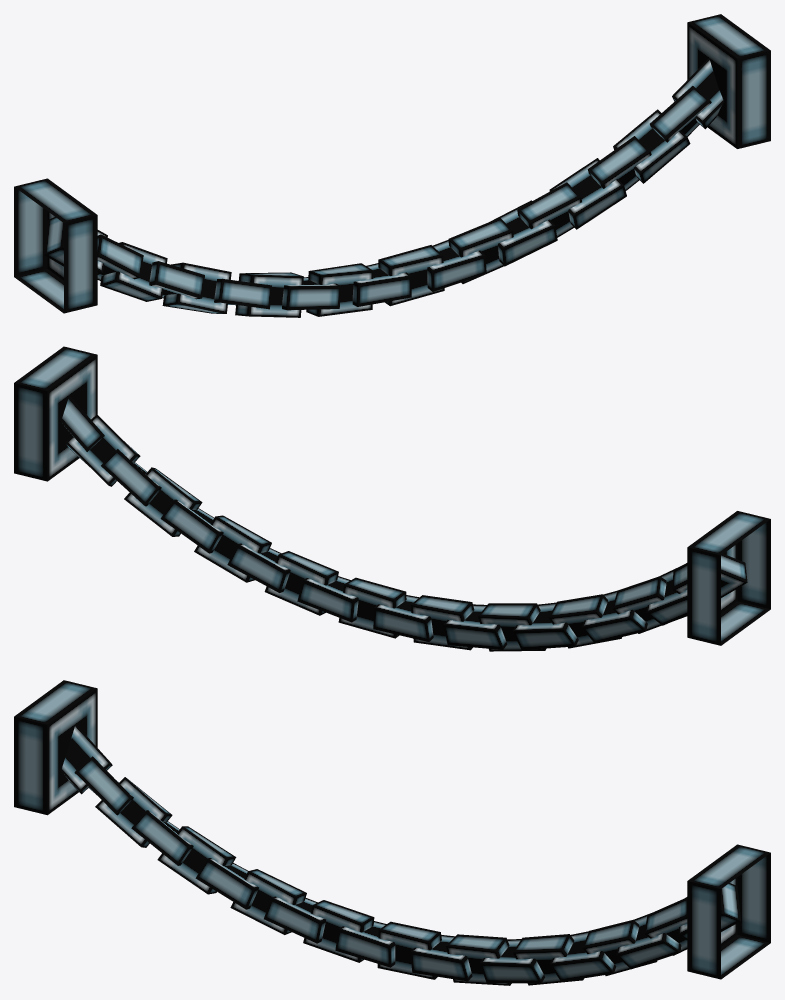
Rendered from deco_chain_long.FBX.
3 renders of one model, top to bottom at view 1: azimuth 30°, elevation 25°; view 2: azimuth 150°, elevation 25°; view 3: azimuth 330°, elevation 25°, orthographic.
Visible parts, largest first — view 1: deco_chain_long; view 2: deco_chain_long; view 3: deco_chain_long.
Boxes of the visible parts, x1,y1,x2,y2 form: deco_chain_long: [14, 14, 770, 317]; deco_chain_long: [14, 346, 770, 651]; deco_chain_long: [14, 680, 770, 985].
Bounding box in the file's own units: 3.5 × 0.8586 × 0.4281.
1 material, 1 textured.
